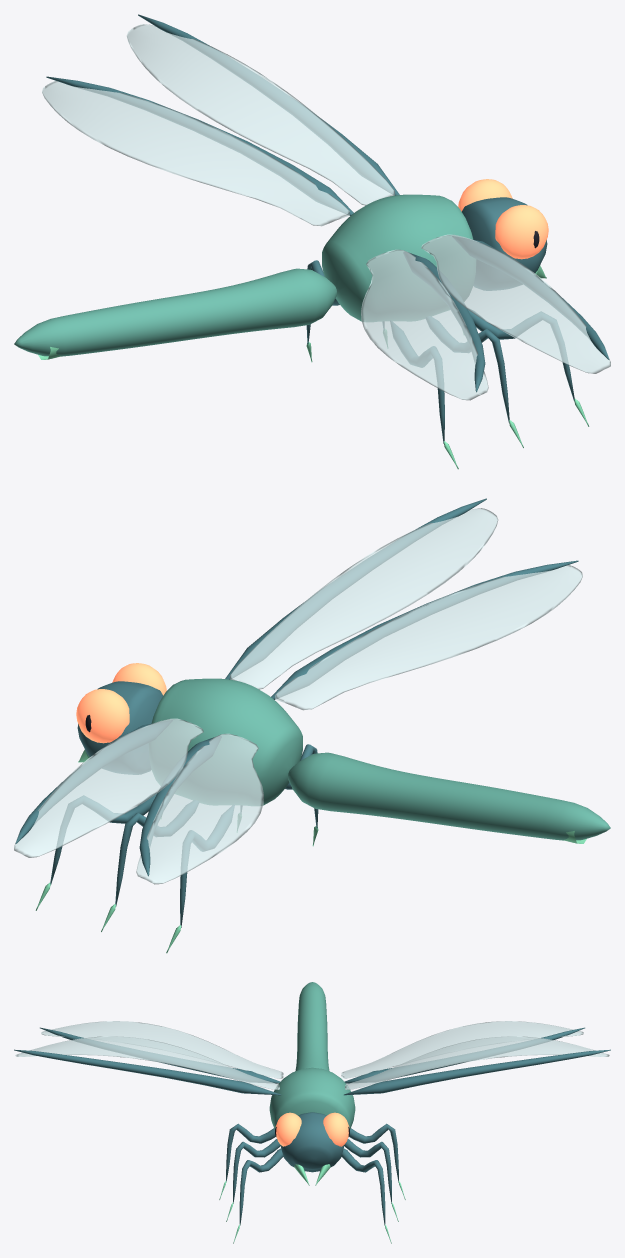
Rendered from meganeura.glb.
3 renders of one model, top to bottom at view 1: azimuth 30°, elevation 25°; view 2: azimuth 150°, elevation 25°; view 3: azimuth 270°, elevation 25°, orthographic. The views are drawn at different scales.
Visible parts, largest first — view 1: WingPivot0_Membrane, WingPivot2_Membrane, Meganeura_Thorax, Abdomen, WingPivot3_Membrane, WingPivot1_Membrane, WingPivot2_Spar, WingPivot0_Spar, Dragonfly_Head, WingPivot1_Spar, WingPivot3_Spar, Eye_R (+4 smaller); view 2: WingPivot1_Membrane, WingPivot3_Membrane, Meganeura_Thorax, Abdomen, WingPivot2_Membrane, WingPivot0_Membrane, WingPivot3_Spar, WingPivot1_Spar, Dragonfly_Head, WingPivot0_Spar, WingPivot2_Spar, Eye_L (+4 smaller); view 3: WingPivot2_Membrane, WingPivot3_Membrane, WingPivot0_Membrane, WingPivot1_Membrane, Meganeura_Thorax, Abdomen, Dragonfly_Head, WingPivot0_Spar, WingPivot1_Spar, WingPivot2_Spar, WingPivot3_Spar, Eye_L (+7 smaller).
Boxes of the visible parts, left/top/right/bottom form: WingPivot0_Membrane: left=126, top=24, right=394, bottom=205; WingPivot2_Membrane: left=42, top=80, right=349, bottom=226; Meganeura_Thorax: left=322, top=194, right=475, bottom=321; Abdomen: left=14, top=268, right=336, bottom=356; WingPivot3_Membrane: left=361, top=249, right=488, bottom=400; WingPivot1_Membrane: left=421, top=234, right=610, bottom=373; WingPivot2_Spar: left=46, top=76, right=353, bottom=215; WingPivot0_Spar: left=138, top=14, right=399, bottom=195; Dragonfly_Head: left=462, top=197, right=547, bottom=290; WingPivot1_Spar: left=452, top=236, right=609, bottom=359; WingPivot3_Spar: left=403, top=251, right=485, bottom=392; Eye_R: left=495, top=205, right=548, bottom=259; WingPivot1_Membrane: left=230, top=508, right=498, bottom=689; WingPivot3_Membrane: left=275, top=564, right=582, bottom=710; Meganeura_Thorax: left=149, top=678, right=302, bottom=805; Abdomen: left=288, top=752, right=610, bottom=840; WingPivot2_Membrane: left=136, top=733, right=263, bottom=884; WingPivot0_Membrane: left=14, top=718, right=203, bottom=857; WingPivot3_Spar: left=271, top=560, right=578, bottom=699; WingPivot1_Spar: left=225, top=498, right=486, bottom=679; Dragonfly_Head: left=77, top=681, right=162, bottom=774; WingPivot0_Spar: left=15, top=720, right=172, bottom=843; WingPivot2_Spar: left=139, top=735, right=221, bottom=876; Eye_L: left=76, top=689, right=129, bottom=743; WingPivot2_Membrane: left=341, top=1021, right=583, bottom=1078; WingPivot3_Membrane: left=41, top=1021, right=283, bottom=1078; WingPivot0_Membrane: left=345, top=1036, right=609, bottom=1089; WingPivot1_Membrane: left=15, top=1036, right=279, bottom=1089; Meganeura_Thorax: left=269, top=1067, right=355, bottom=1129; Abdomen: left=295, top=982, right=329, bottom=1071; Dragonfly_Head: left=281, top=1112, right=343, bottom=1172; WingPivot0_Spar: left=344, top=1049, right=610, bottom=1095; WingPivot1_Spar: left=14, top=1049, right=280, bottom=1095; WingPivot2_Spar: left=344, top=1027, right=584, bottom=1083; WingPivot3_Spar: left=40, top=1027, right=280, bottom=1083; Eye_L: left=323, top=1112, right=349, bottom=1146.
Bounding box in the file's own units: 2.25 × 0.95 × 3.46.
